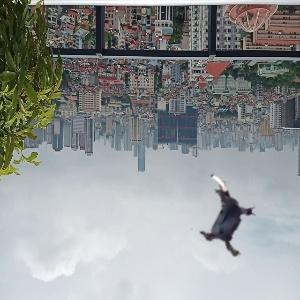drone: (184, 177, 269, 262)
